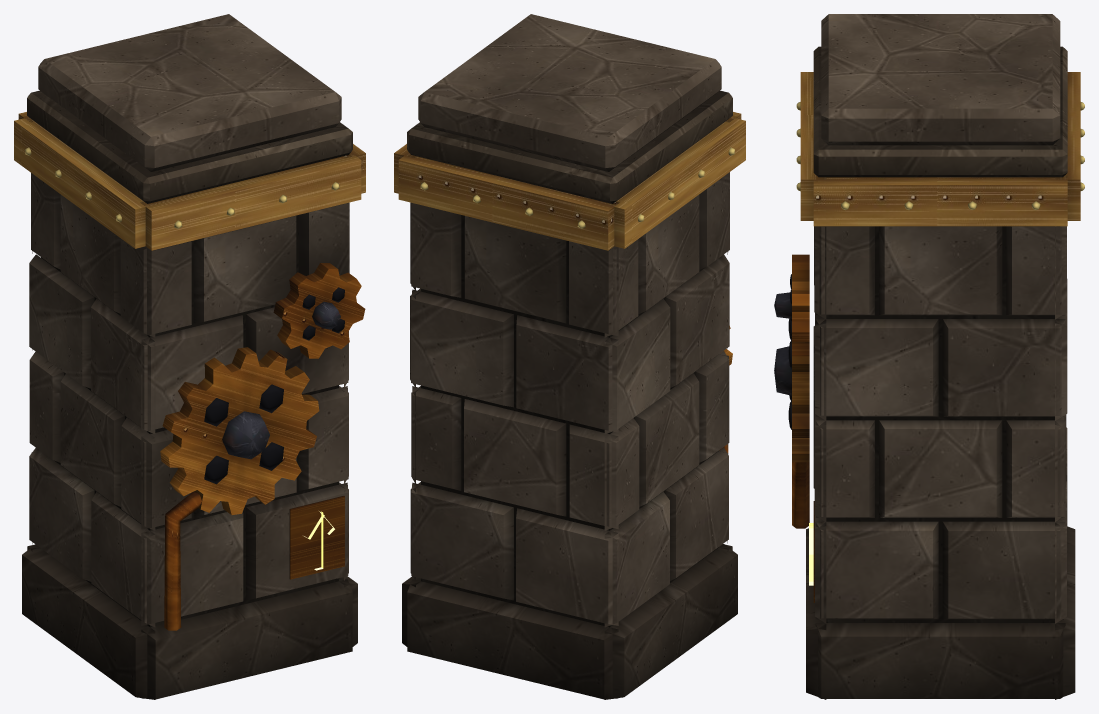
The model's file is interior_gear_wall.glb.
3 renders of one model, left to right at view 1: azimuth 30°, elevation 25°; view 2: azimuth 150°, elevation 25°; view 3: azimuth 270°, elevation 25°, orthographic. The views are drawn at different scales.
Visible parts, largest first — view 1: interior_gear_wall; view 2: interior_gear_wall; view 3: interior_gear_wall.
Part boxes in pixels (box(x1,y1,x2,y2)): interior_gear_wall: box(14, 14, 365, 699); interior_gear_wall: box(394, 14, 745, 699); interior_gear_wall: box(774, 14, 1084, 699).
Bounding box in the file's own units: 1.14 × 2.55 × 1.22.
6 materials, 4 textured.
